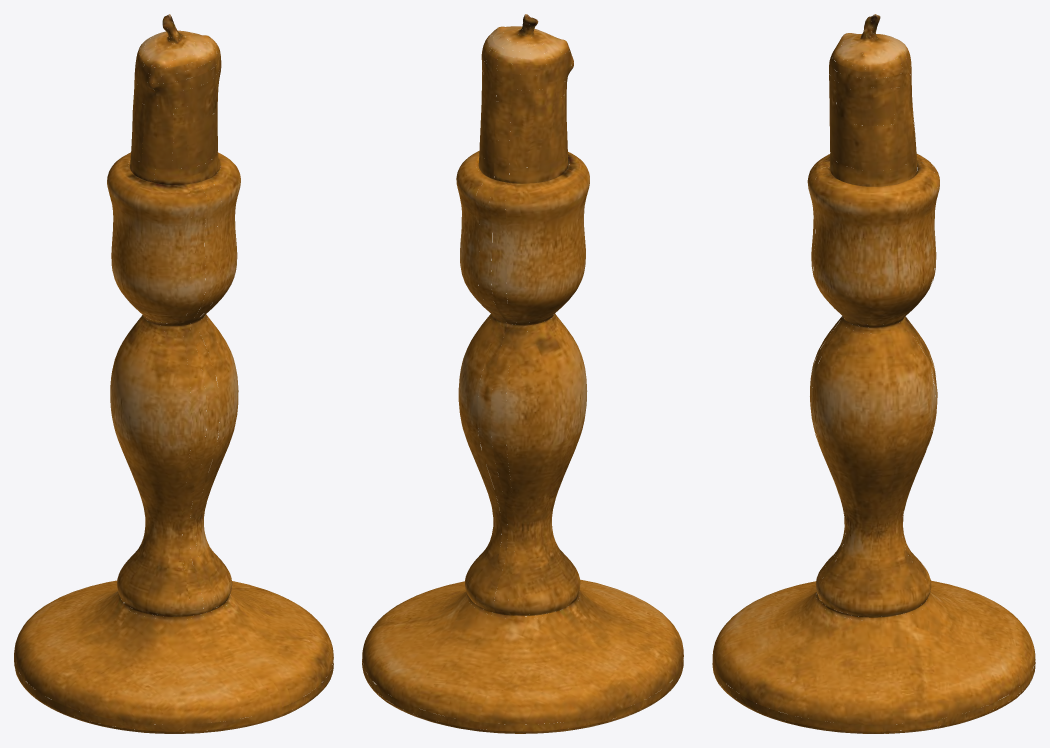
Rendered from nyb_scent_candle.glb.
3 views of the same model, side by side, from view 1: azimuth 30°, elevation 25°; view 2: azimuth 150°, elevation 25°; view 3: azimuth 270°, elevation 25° (orthographic).
Visible parts, largest first — view 1: wooden_candlestick; view 2: wooden_candlestick; view 3: wooden_candlestick.
Boxes of the visible parts, left/top/right/bottom form: wooden_candlestick: left=14, top=14, right=333, bottom=733; wooden_candlestick: left=362, top=14, right=683, bottom=733; wooden_candlestick: left=712, top=14, right=1035, bottom=733.
Bounding box in the file's own units: 0.0972 × 0.2197 × 0.0987.
1 material, 1 textured.
